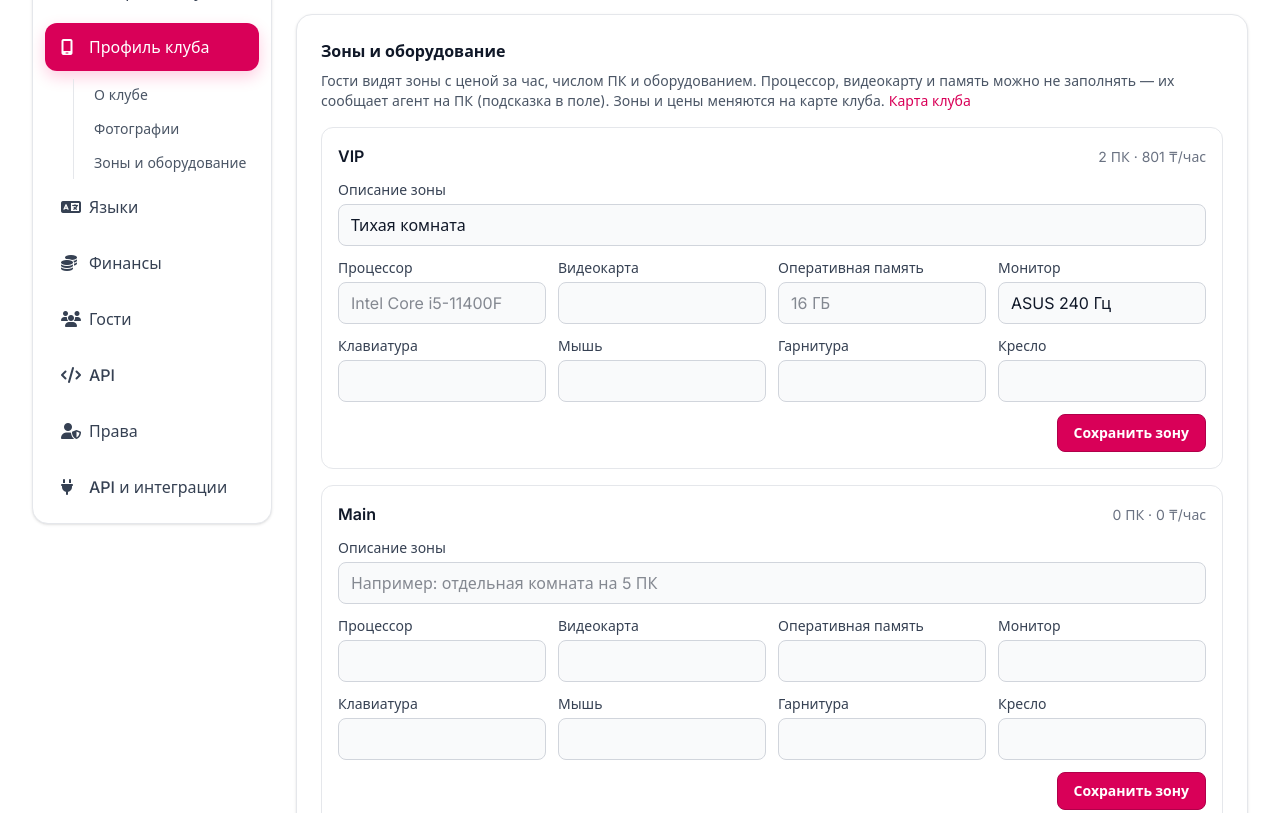
Test case: Профиль клуба › зоны: число ПК и цена, подсказки из данных агентов, сохранение оборудования
The width and height of the screenshot is (1280, 813).
(page scrolled)
Check: the text "2 ПК · 801 ₸/час" is shown, box [1098,147,1206,167]
Check: the text "0 ПК · 0 ₸/час" is shown, box [1112,505,1206,525]
In the field labelled "Мышь" below "VIP": (662, 381) [558,360,766,402], type "Logitech G102"
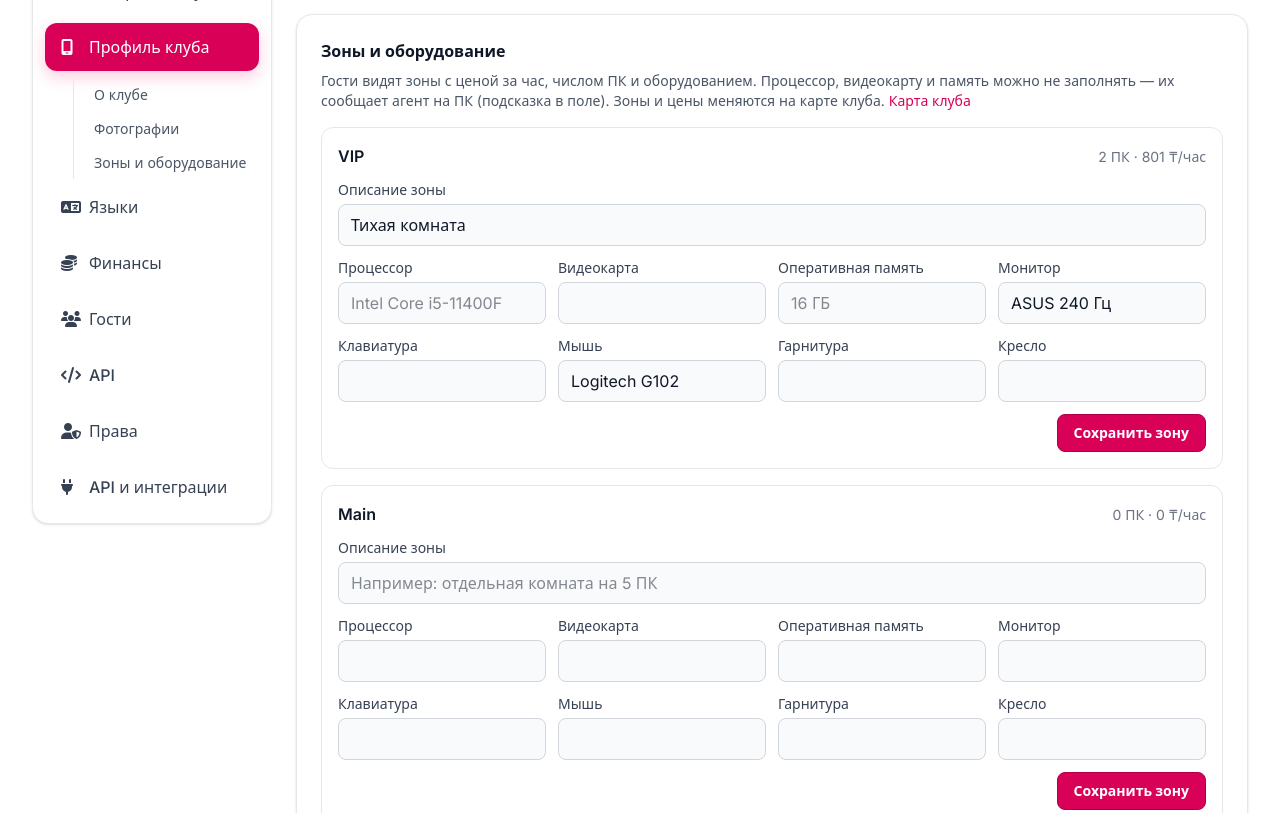
Click the button "Сохранить зону" below "2 ПК": (1131, 433) [1057,414,1206,452]
(page scrolled)
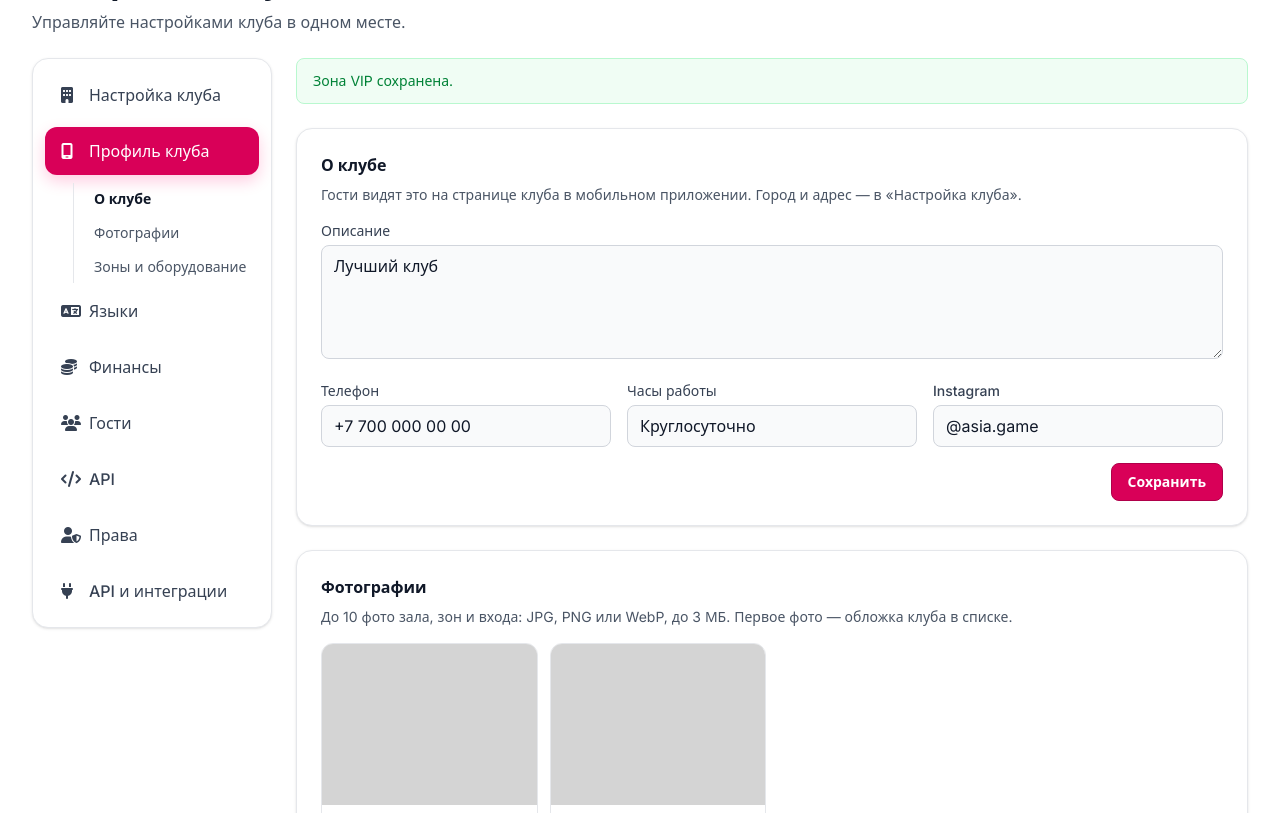
Check: the text "Зона VIP сохранена." is shown, box [296,58,1248,104]
